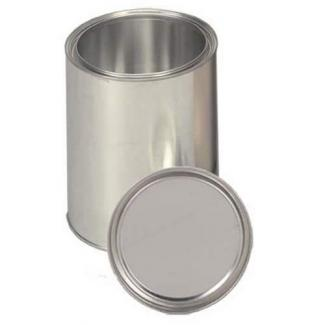Rec_Metal: (49, 14, 269, 302)
